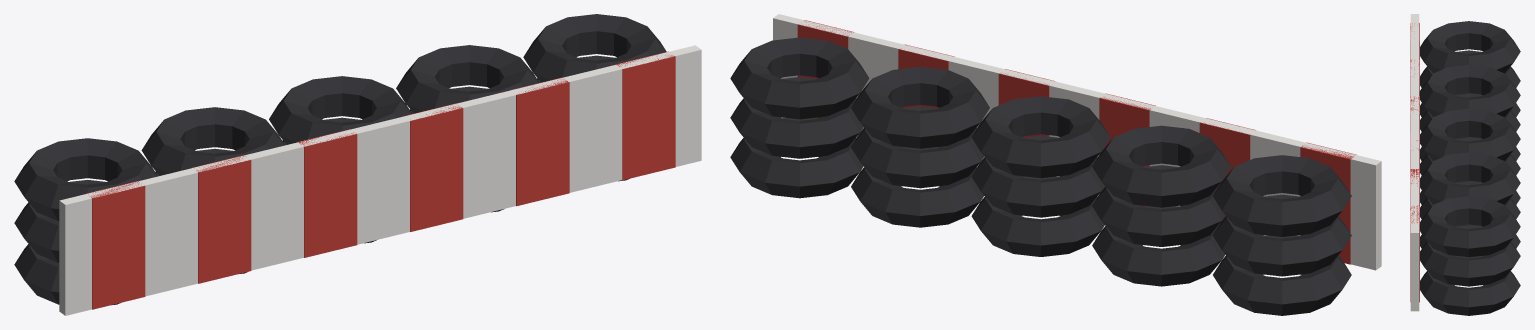
The model's file is tyre_wall.glb.
The picture shows the model from 3 angles, left to right: view 1: azimuth 30°, elevation 25°; view 2: azimuth 150°, elevation 25°; view 3: azimuth 270°, elevation 25°; orthographic projection. The views are drawn at different scales.
Visible parts, largest first — view 1: tyre_wall; view 2: tyre_wall; view 3: tyre_wall.
Boxes of the visible parts, x1,y1,x2,y2 form: tyre_wall: (14,14,701,315); tyre_wall: (730,14,1381,315); tyre_wall: (1410,14,1520,315).
Bounding box in the file's own units: 2.4 × 0.4466 × 0.5125.
